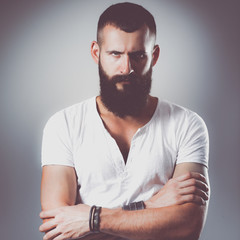young: (81, 4, 168, 114)
